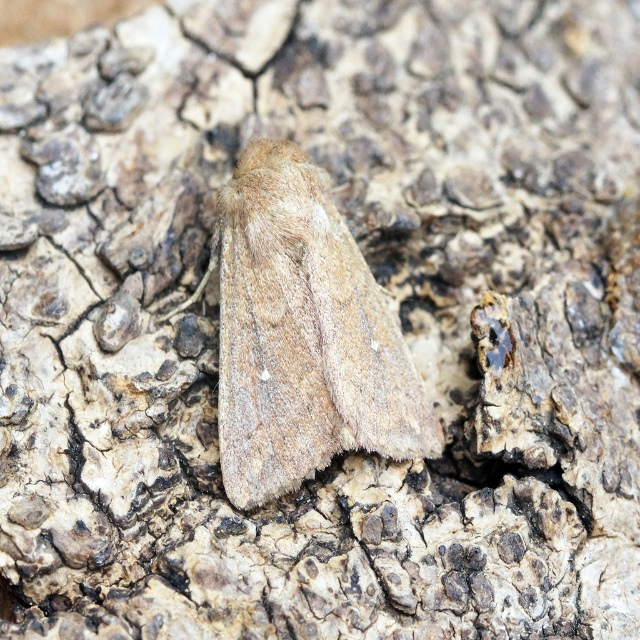Moths and butterflies: (154, 136, 447, 514)
